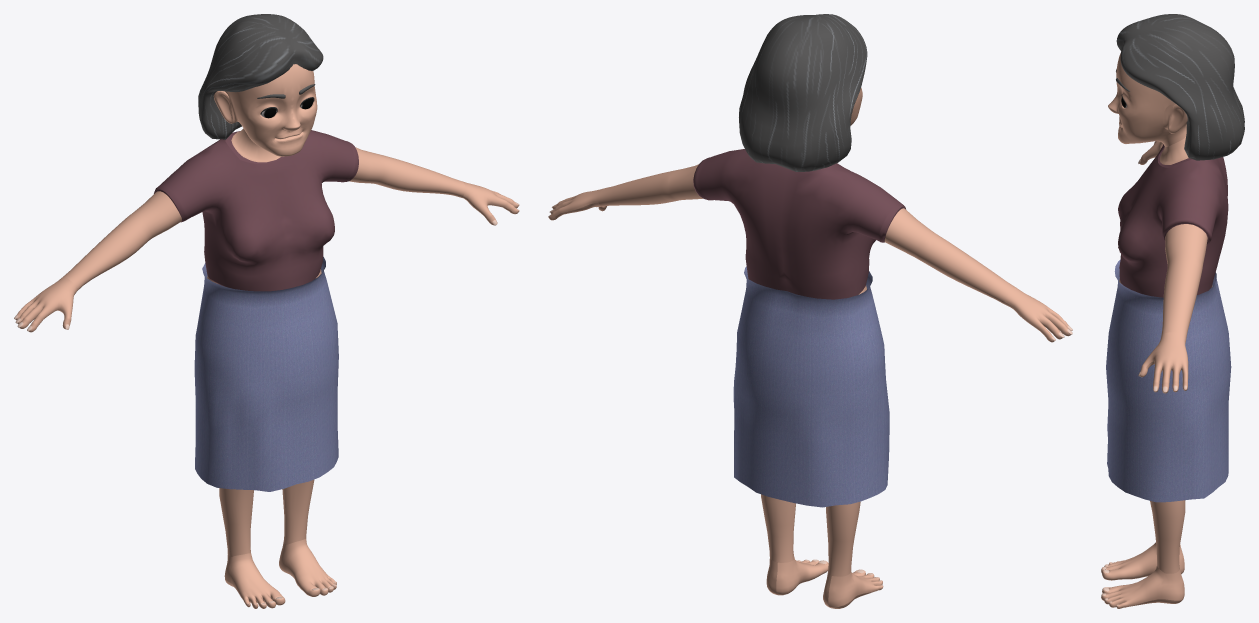
Rendered from Dona Luzia UVs Certas.fbx.
The picture shows the model from 3 angles, left to right: view 1: azimuth 30°, elevation 25°; view 2: azimuth 150°, elevation 25°; view 3: azimuth 270°, elevation 25°; orthographic projection. The views are drawn at different scales.
Visible parts, largest first — view 1: Dona Luzia; view 2: Dona Luzia; view 3: Dona Luzia.
Boxes of the visible parts, x1,y1,x2,y2 form: Dona Luzia: (14,14,519,608); Dona Luzia: (548,14,1072,608); Dona Luzia: (1101,14,1244,608).
Size of the model in its own units: 1255 by 1335 by 306.
